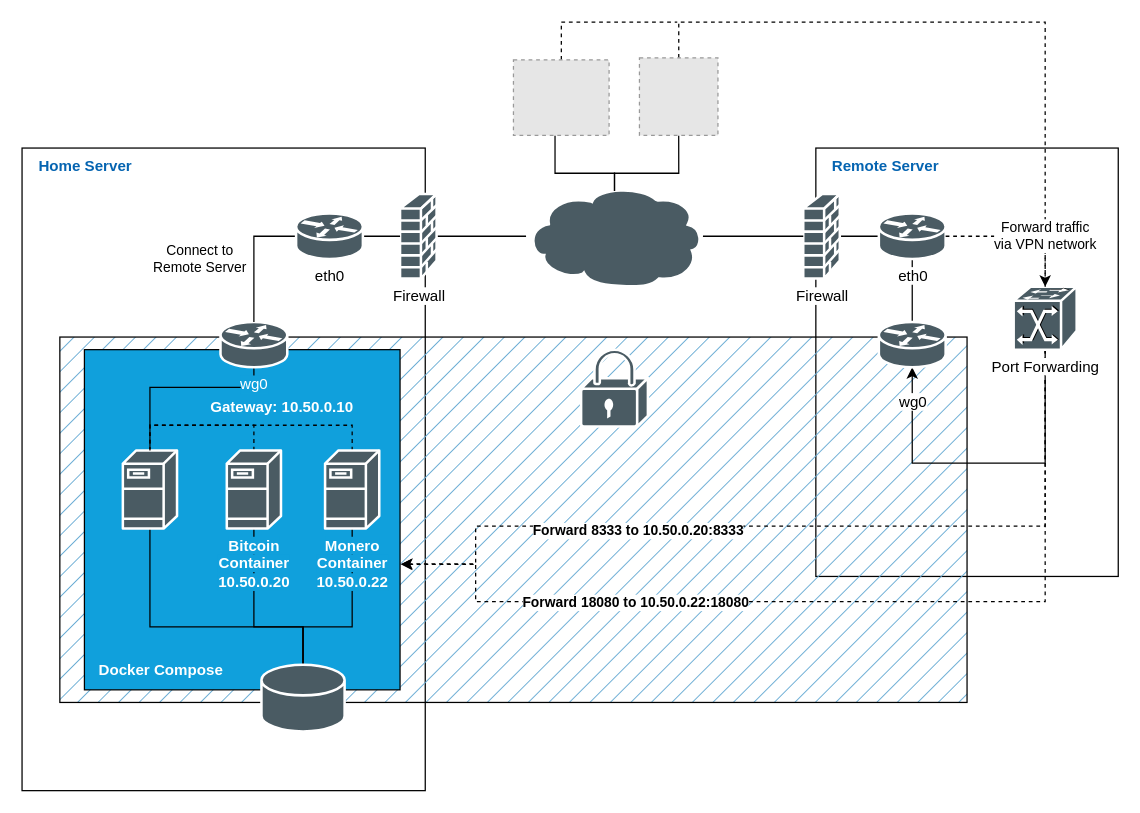
The diagram is 1140 pixels wide and 813 high, and some of its shapes have lost their labels. Grey dashed boxes stand in for pictures. The centre of each missing label's shape, as x and y in pixels:
Persistent Volume Mounts: [302,697]
Public Internet: [614,235]
VPN Network 10.50.0.0/24: [614,387]
Wireguard Container 10.50.0.10: [149,489]
